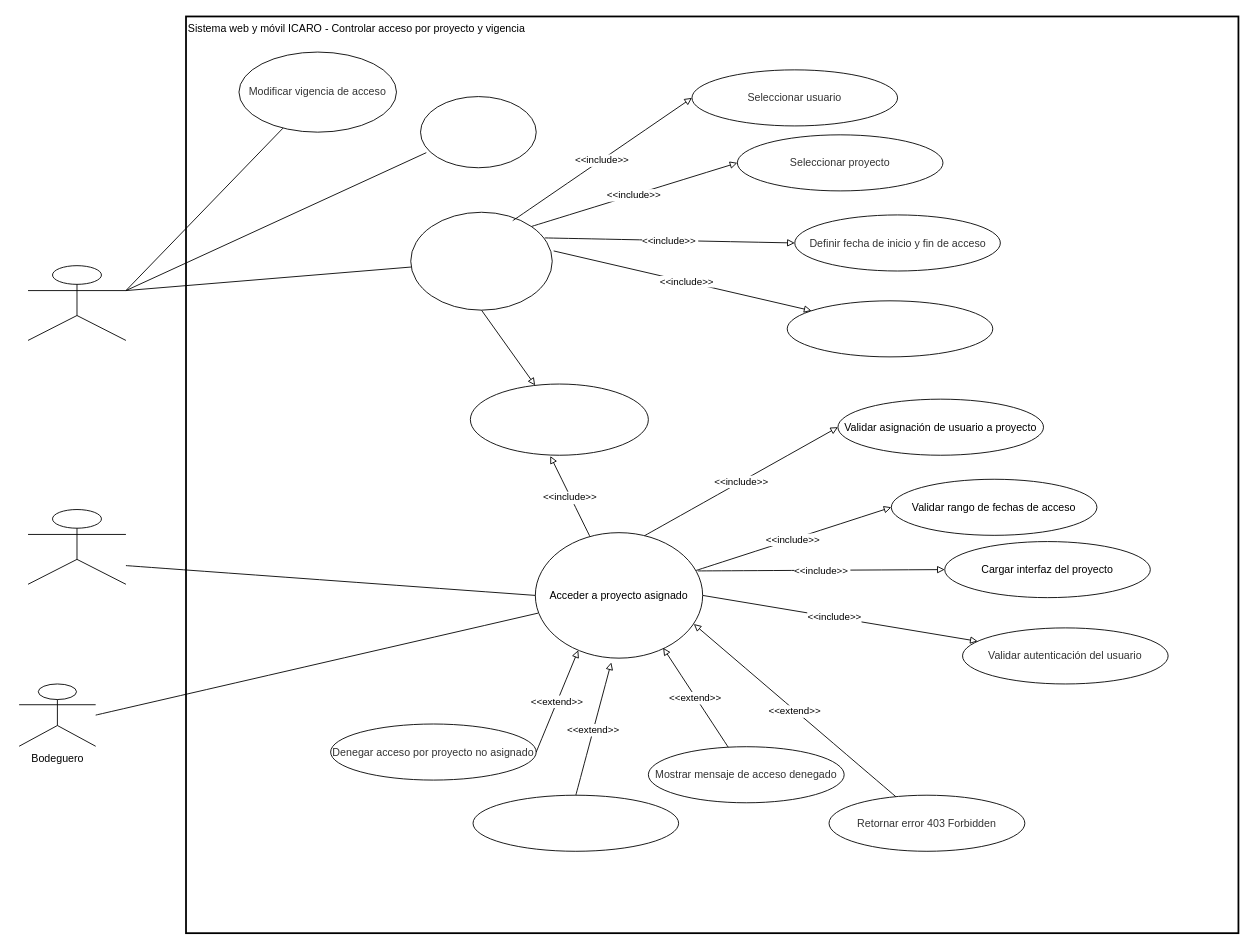
This 1255x949 diagram has some shape labels left out. Each missing label, with the centre of its shape:
"Administrador del sistema" goes at point (76, 302).
"Controlar acceso por proyecto y vigencia" goes at point (558, 419).
"Denegar acceso por fecha no autorizada" goes at point (575, 822).
"Gestionar asignación usuario-proyecto" goes at point (481, 260).
"Guardar asignación de acceso" goes at point (889, 328).
"Residente" goes at point (76, 546).
"Revocar acceso a proyecto" goes at point (478, 132).
